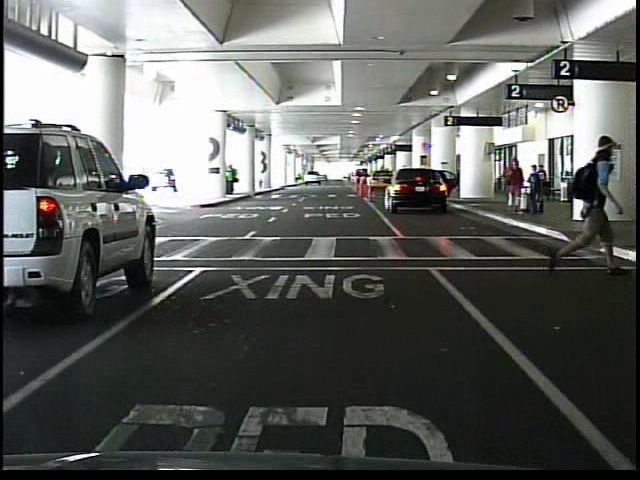person: (540, 135, 628, 271), (500, 157, 521, 211), (525, 163, 544, 214), (537, 164, 548, 199), (226, 164, 238, 196)
